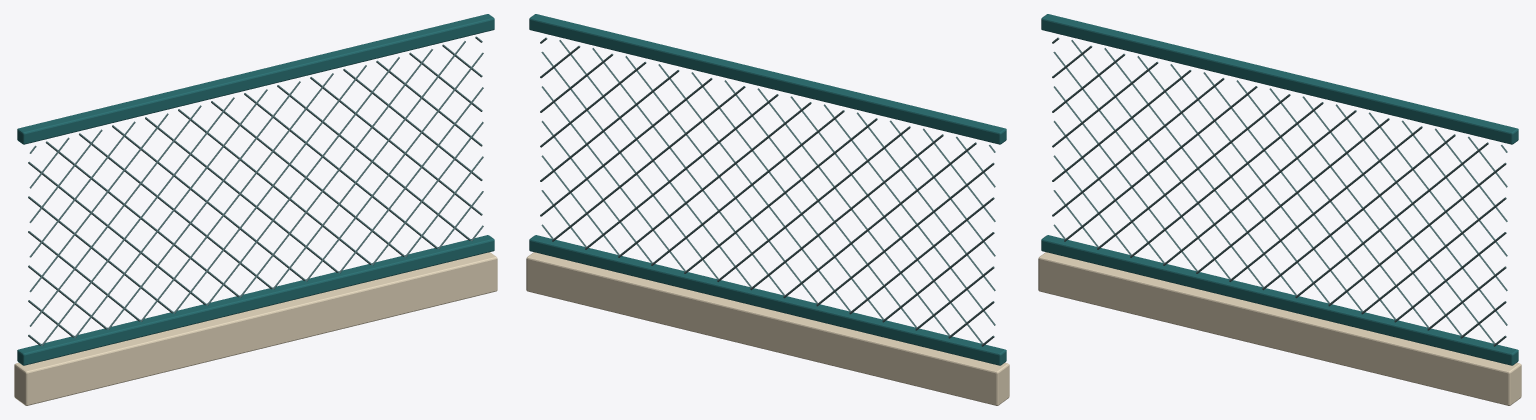
The model's file is fence-panel-4m.glb.
3 views of the same model, side by side, from view 1: azimuth 30°, elevation 25°; view 2: azimuth 150°, elevation 25°; view 3: azimuth 330°, elevation 25° (orthographic).
Visible parts, largest first — view 1: fence-panel-4m-frame-timber-cream, fence-panel-4m-fence-wire-timber-wire, fence-panel-4m-frame-timber-teal; view 2: fence-panel-4m-frame-timber-cream, fence-panel-4m-fence-wire-timber-wire, fence-panel-4m-frame-timber-teal; view 3: fence-panel-4m-frame-timber-cream, fence-panel-4m-fence-wire-timber-wire, fence-panel-4m-frame-timber-teal.
Boxes of the visible parts, bbox=[...] form: fence-panel-4m-frame-timber-cream: bbox=[14, 252, 497, 405]; fence-panel-4m-fence-wire-timber-wire: bbox=[28, 36, 483, 345]; fence-panel-4m-frame-timber-teal: bbox=[17, 14, 494, 365]; fence-panel-4m-frame-timber-cream: bbox=[526, 252, 1009, 405]; fence-panel-4m-fence-wire-timber-wire: bbox=[540, 37, 995, 346]; fence-panel-4m-frame-timber-teal: bbox=[529, 14, 1006, 365]; fence-panel-4m-frame-timber-cream: bbox=[1038, 252, 1521, 405]; fence-panel-4m-fence-wire-timber-wire: bbox=[1052, 37, 1507, 346]; fence-panel-4m-frame-timber-teal: bbox=[1041, 14, 1518, 365].
Size of the model in its own units: 4 by 2.2 by 0.18.
